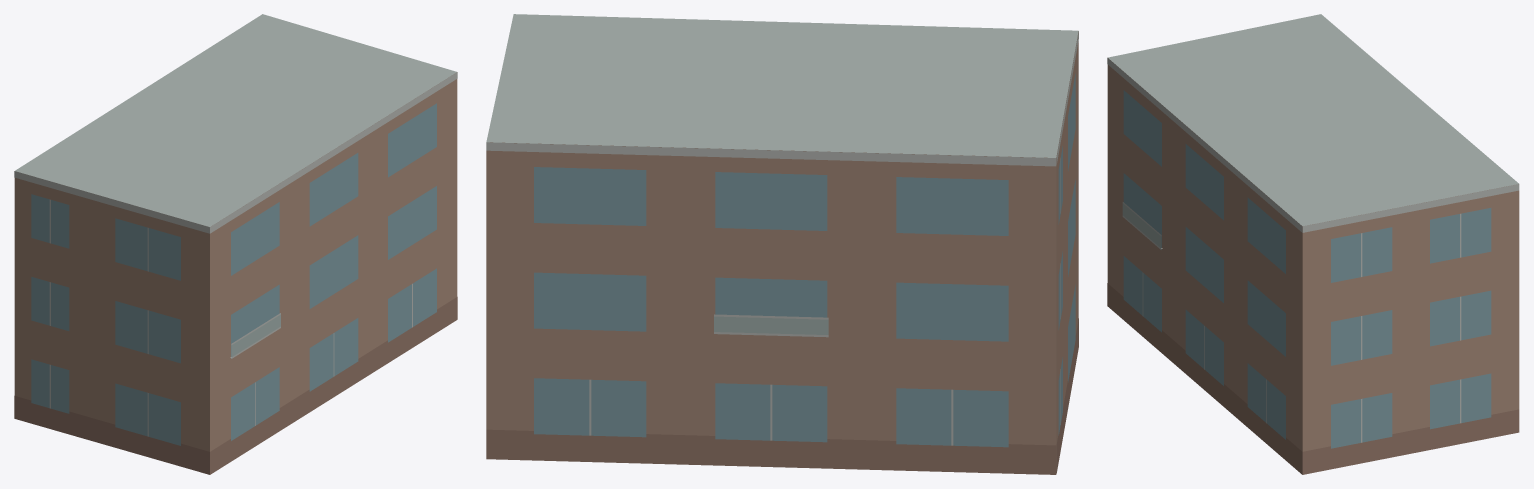
The model's file is survey-upis-32700493.glb.
The picture shows the model from 3 angles, left to right: view 1: azimuth 30°, elevation 25°; view 2: azimuth 150°, elevation 25°; view 3: azimuth 270°, elevation 25°; orthographic projection. The views are drawn at different scales.
Visible parts, largest first — view 1: survey-upis-32700493.tmp; view 2: survey-upis-32700493.tmp; view 3: survey-upis-32700493.tmp.
Boxes of the visible parts, x1,y1,x2,y2 form: survey-upis-32700493.tmp: (14,14,457,474); survey-upis-32700493.tmp: (486,14,1078,474); survey-upis-32700493.tmp: (1107,14,1519,474).
Size of the model in its own units: 16.77 by 9.15 by 13.75.
